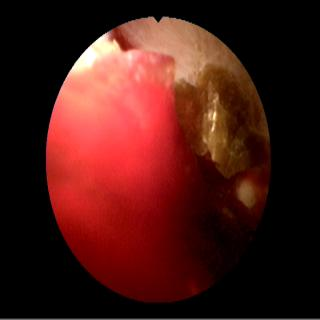stone: (174, 63, 257, 176)
tissue: (52, 20, 259, 295)
